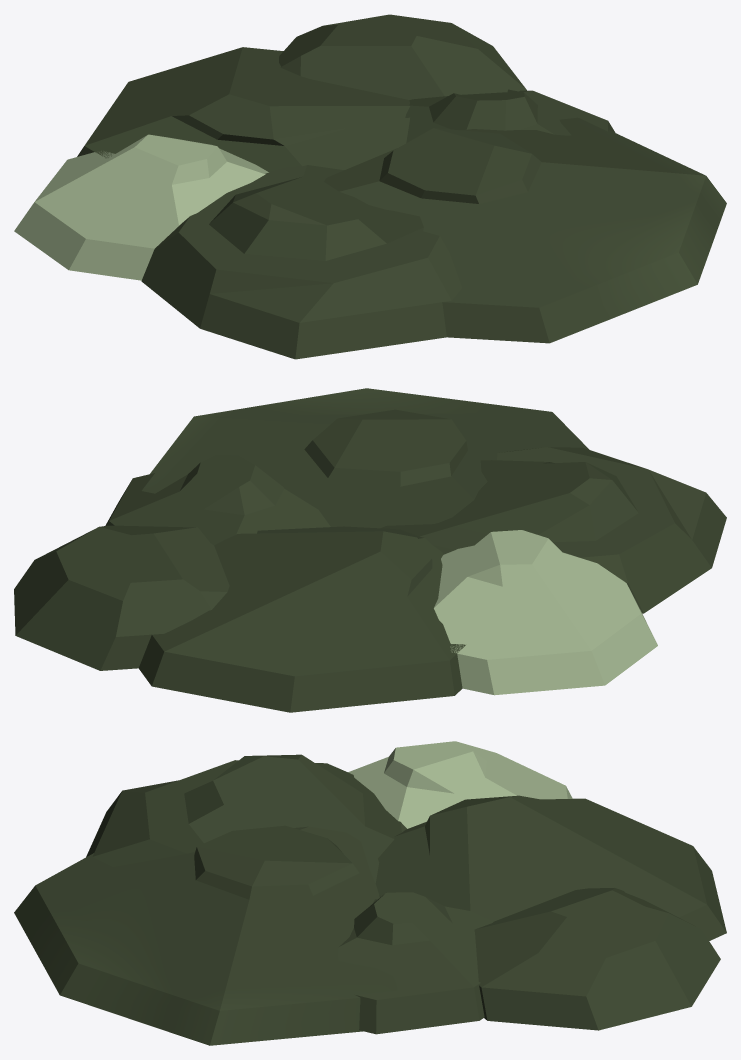
The model's file is EA_Swamp_Grass_Hill_Dead_01b.glb.
3 views of the same model, one above another, from view 1: azimuth 30°, elevation 25°; view 2: azimuth 150°, elevation 25°; view 3: azimuth 270°, elevation 25° (orthographic). The views are drawn at different scales.
Visible parts, largest first — view 1: EA_Swamp_Grass_Hill_Dead_01b; view 2: EA_Swamp_Grass_Hill_Dead_01b; view 3: EA_Swamp_Grass_Hill_Dead_01b.
Boxes of the visible parts, x1,y1,x2,y2 form: EA_Swamp_Grass_Hill_Dead_01b: [14, 14, 726, 359]; EA_Swamp_Grass_Hill_Dead_01b: [14, 388, 726, 712]; EA_Swamp_Grass_Hill_Dead_01b: [14, 741, 726, 1045].
Bounding box in the file's own units: 1.26 × 0.1873 × 1.4.
Materials: 1 (1 with a texture image).
